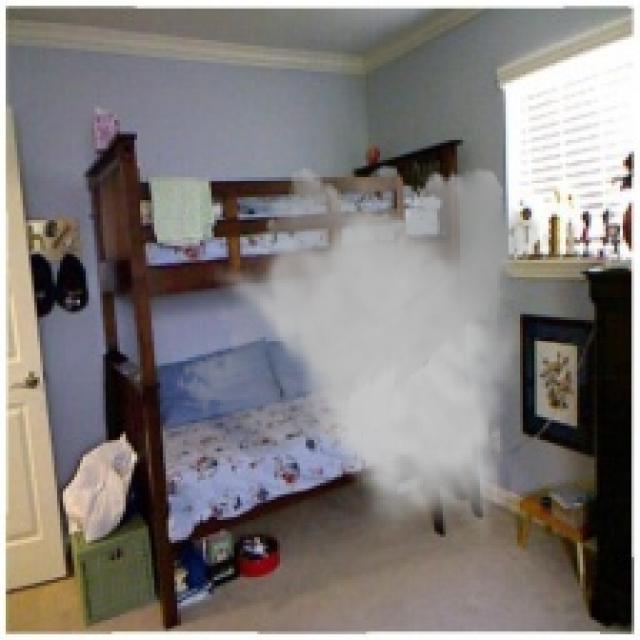smoke: (174, 157, 552, 543)
